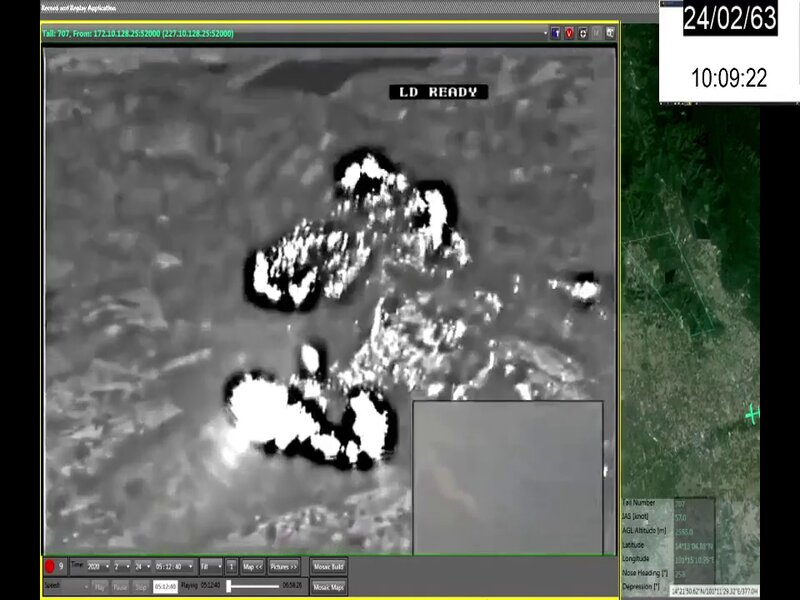Fire: (219, 144, 410, 477)
